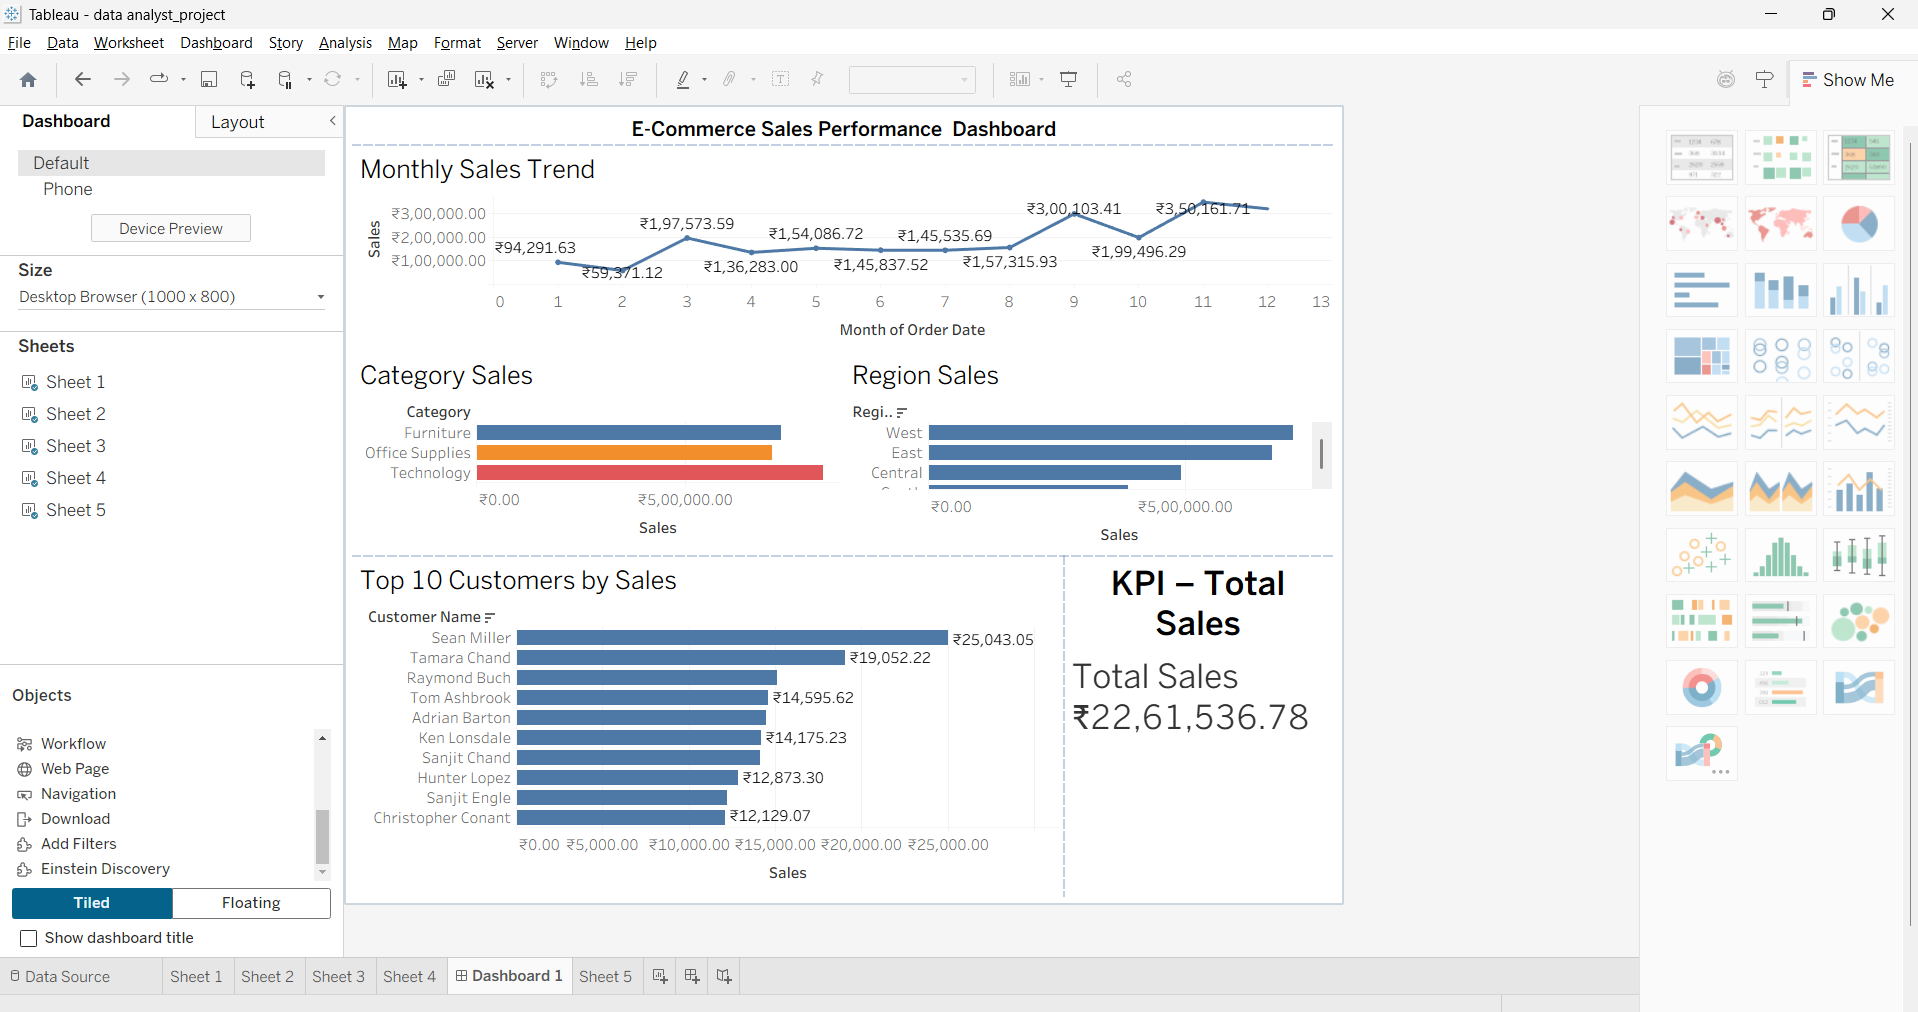

This screenshot's page, from the dashboard's own definition file:
{"tool":"tableau","page":{"name":"Dashboard 1","canvas":[1000,800],"ordinal":0},"visuals":[{"type":"text","box":[8,8,984,32]},{"type":"worksheet","title":"Sheet 1","mark":"Line","rows":["Sales"],"cols":["Order Date"],"box":[8,40,984,205.5]},{"type":"worksheet","title":"Sheet 2","mark":"Bar","rows":["Category"],"cols":["Sales"],"box":[8,245.5,492,205.5]},{"type":"worksheet","title":"Sheet 3","mark":"Automatic","rows":["Region"],"cols":["Sales"],"box":[500,245.5,492,205.5]},{"type":"worksheet","title":"Sheet 4","mark":"Bar","rows":["Customer Name"],"cols":["Sales"],"box":[8,451,712,341]},{"type":"worksheet","title":"Sheet 5","mark":"Automatic","box":[720,451,272,341]}]}

Visuals, with their boxes on the page's 1000x800 design canvas (x1, y1, x2, y2). These are canvas units, not pixel positions in the 1918x1012 screenshot, which may show the page scaled, cropped or inside an application window:
text: x1=8, y1=8, x2=992, y2=40
"Sheet 1" worksheet (Line marks): x1=8, y1=40, x2=992, y2=246
"Sheet 2" worksheet (Bar marks): x1=8, y1=246, x2=500, y2=451
"Sheet 3" worksheet: x1=500, y1=246, x2=992, y2=451
"Sheet 4" worksheet (Bar marks): x1=8, y1=451, x2=720, y2=792
"Sheet 5" worksheet: x1=720, y1=451, x2=992, y2=792
